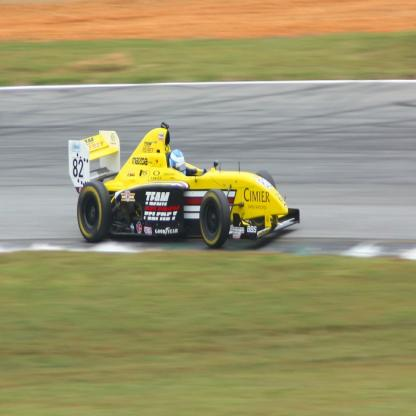Car: (72, 124, 300, 249)
